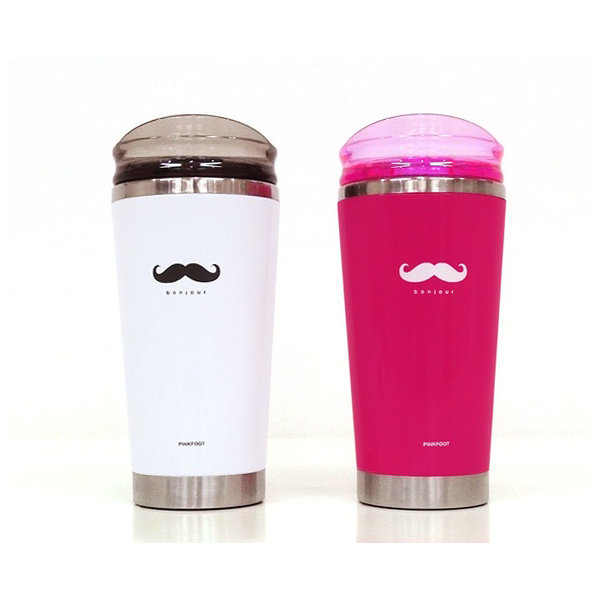Tumbler: (316, 101, 513, 513), (101, 95, 291, 511)
